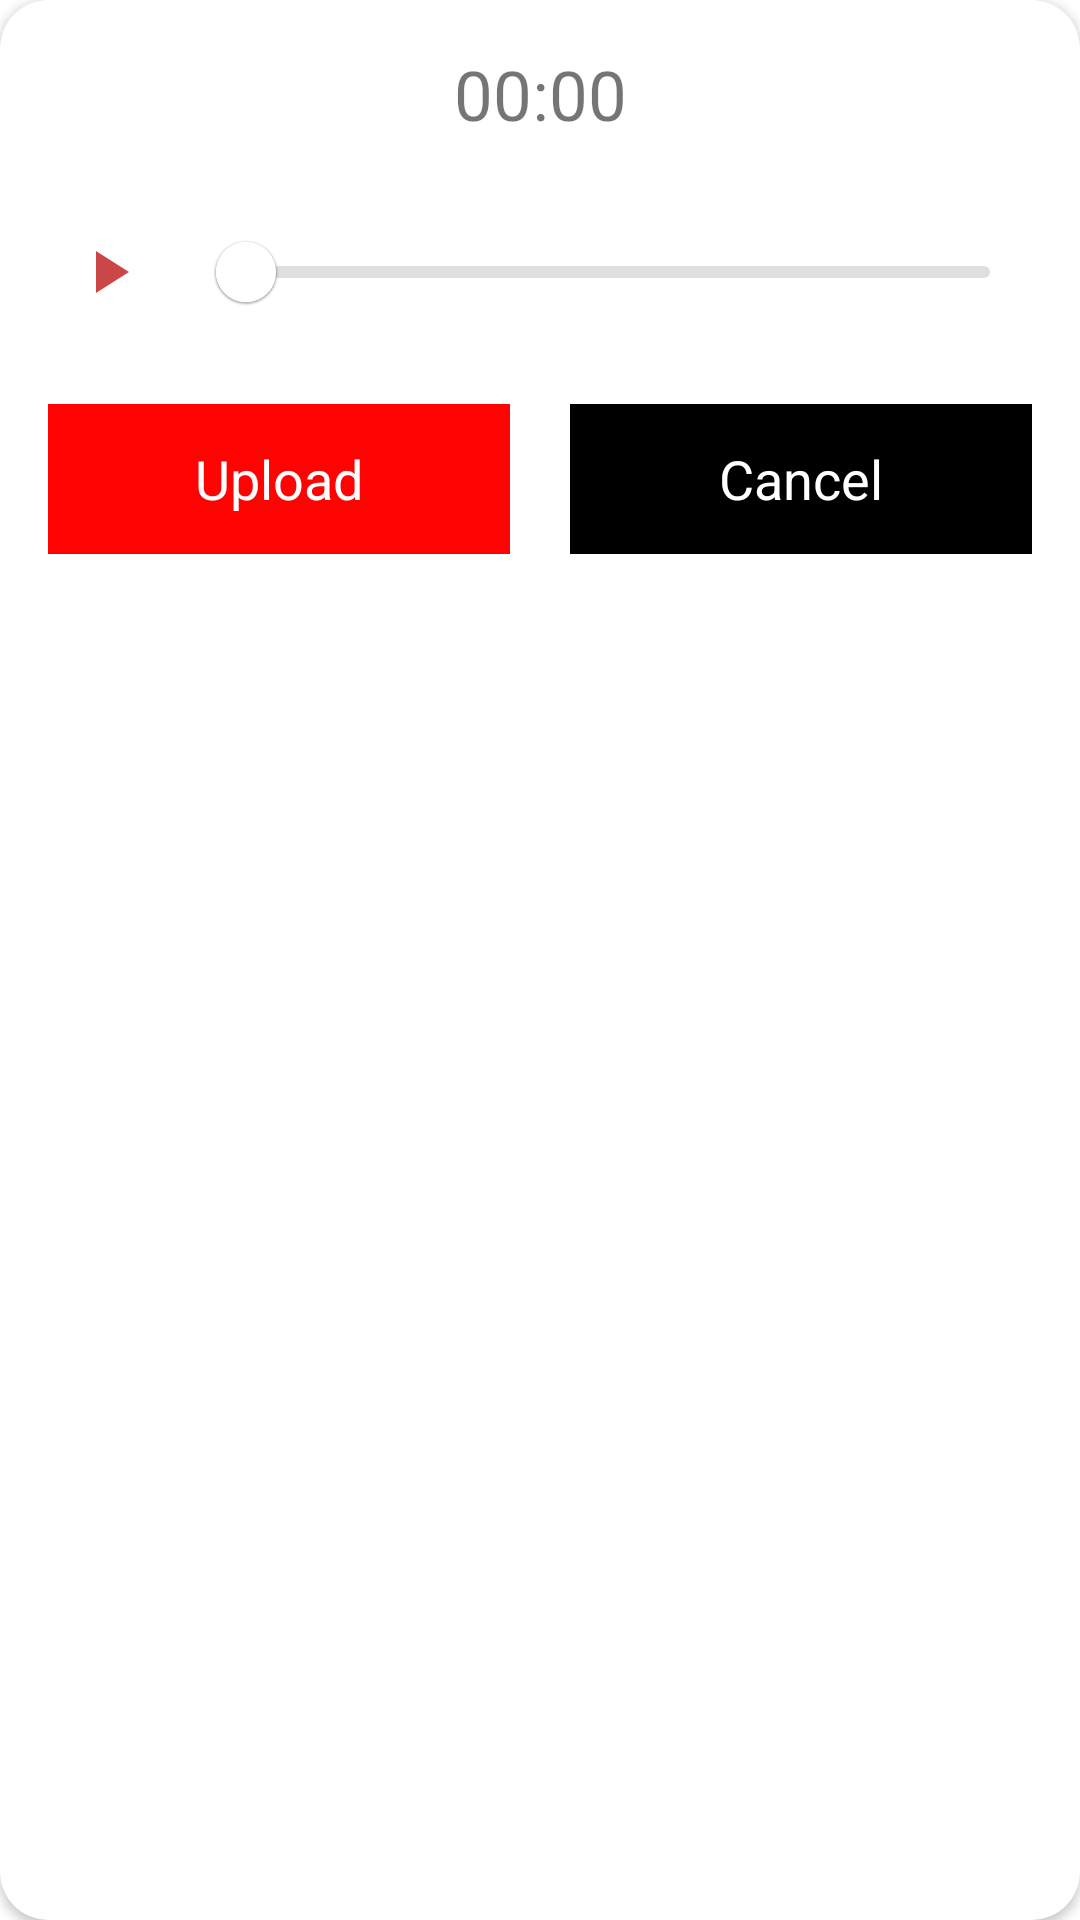

Point at icon controls on the screen. Image size 1080*1920, points as (x=x, y=y).
play: (x=112, y=272)
